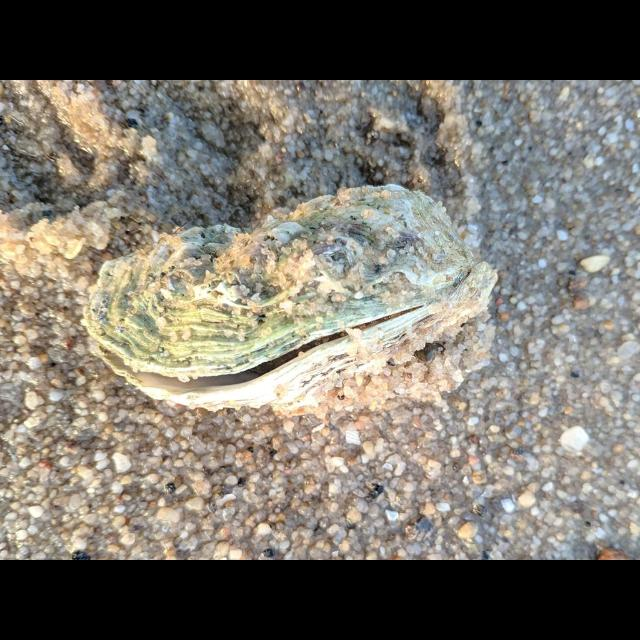Oyster-Open: (81, 182, 496, 410)
